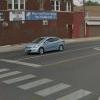Crosswalk: (6, 64, 68, 99)
